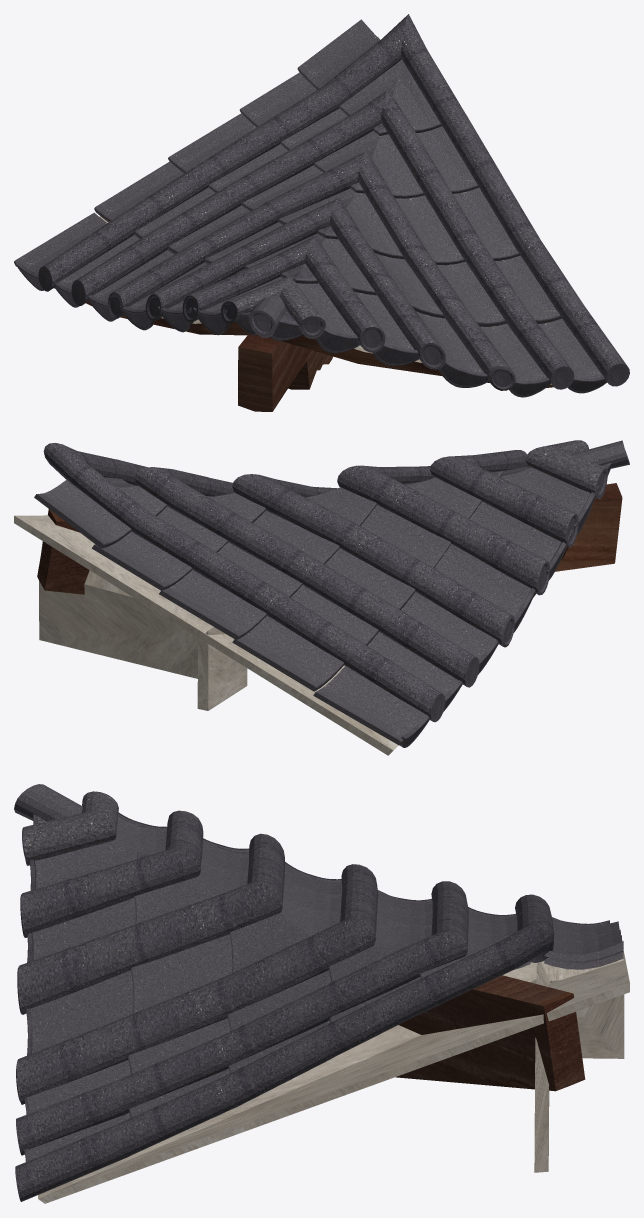
The model's file is SM_R_RoofCorner_1.fbx.
3 views of the same model, one above another, from view 1: azimuth 30°, elevation 25°; view 2: azimuth 150°, elevation 25°; view 3: azimuth 270°, elevation 25° (orthographic). The views are drawn at different scales.
Parts seen in each view (by area): view 1: SM_R_RoofCorner_1; view 2: SM_R_RoofCorner_1; view 3: SM_R_RoofCorner_1.
Boxes of the visible parts, bbox=[...] form: SM_R_RoofCorner_1: bbox=[14, 14, 629, 411]; SM_R_RoofCorner_1: bbox=[14, 440, 629, 755]; SM_R_RoofCorner_1: bbox=[14, 784, 629, 1203].
Size of the model in its own units: 298 by 330 by 168.
4 materials, 4 textured.
